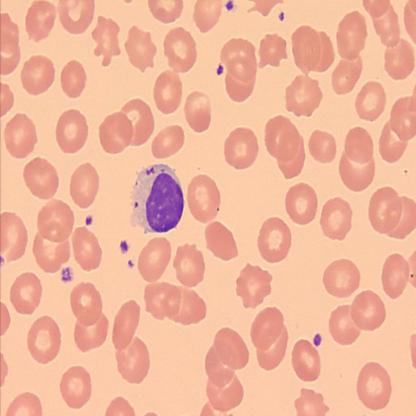Lymphocyte: (130, 163, 184, 236)
